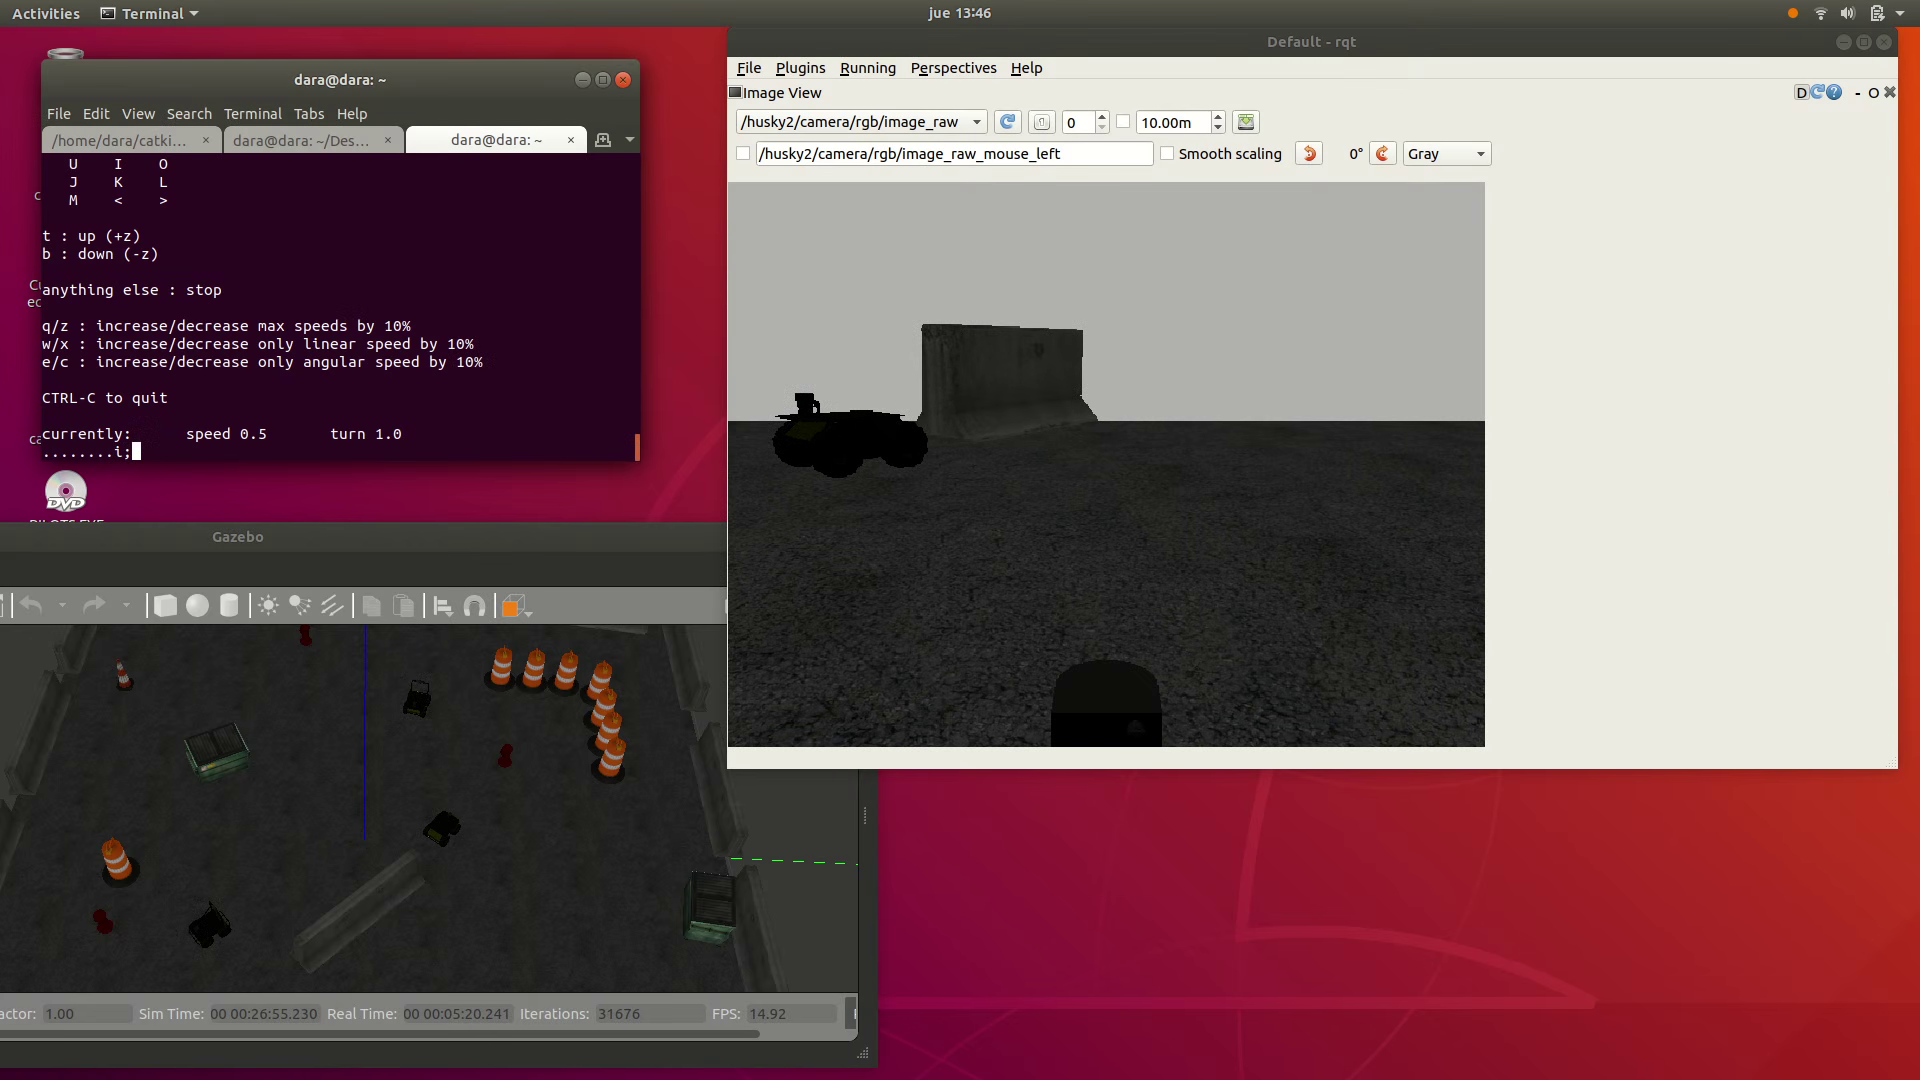husky: (772, 411, 927, 477), (188, 909, 232, 947), (423, 811, 461, 847), (403, 690, 431, 717)
